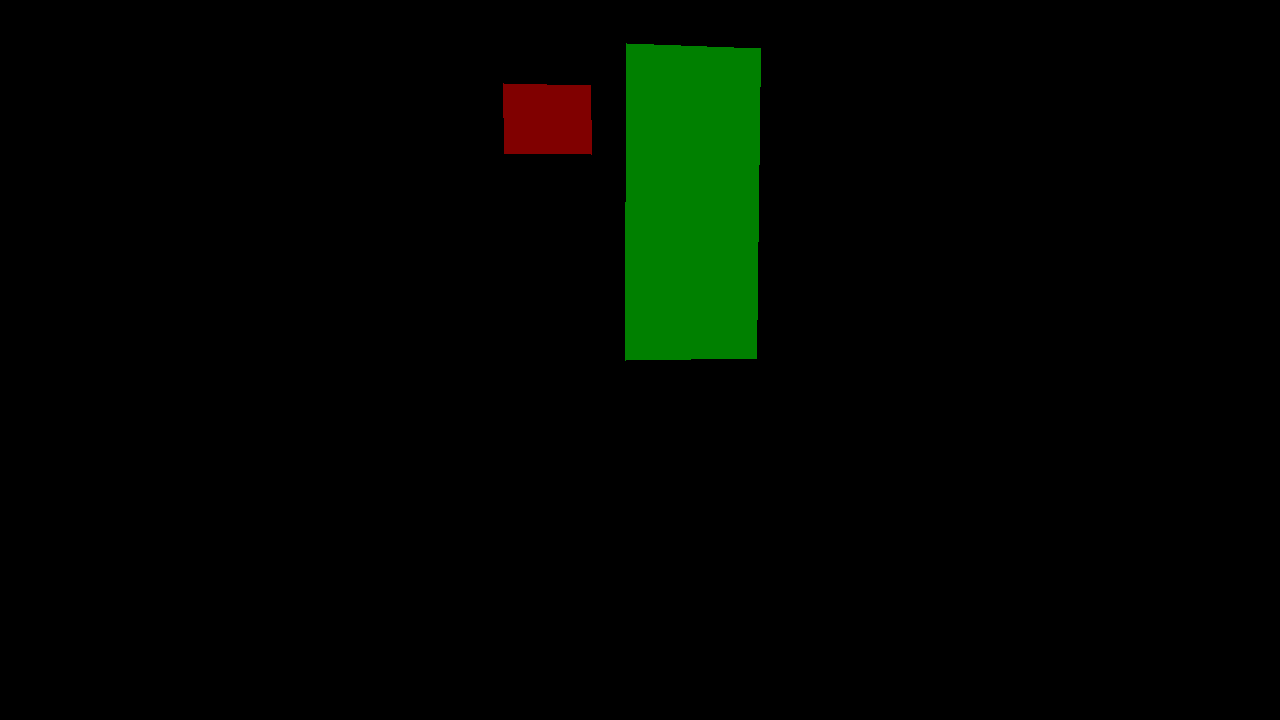door: (625, 43, 760, 360)
sign: (503, 83, 591, 154)
